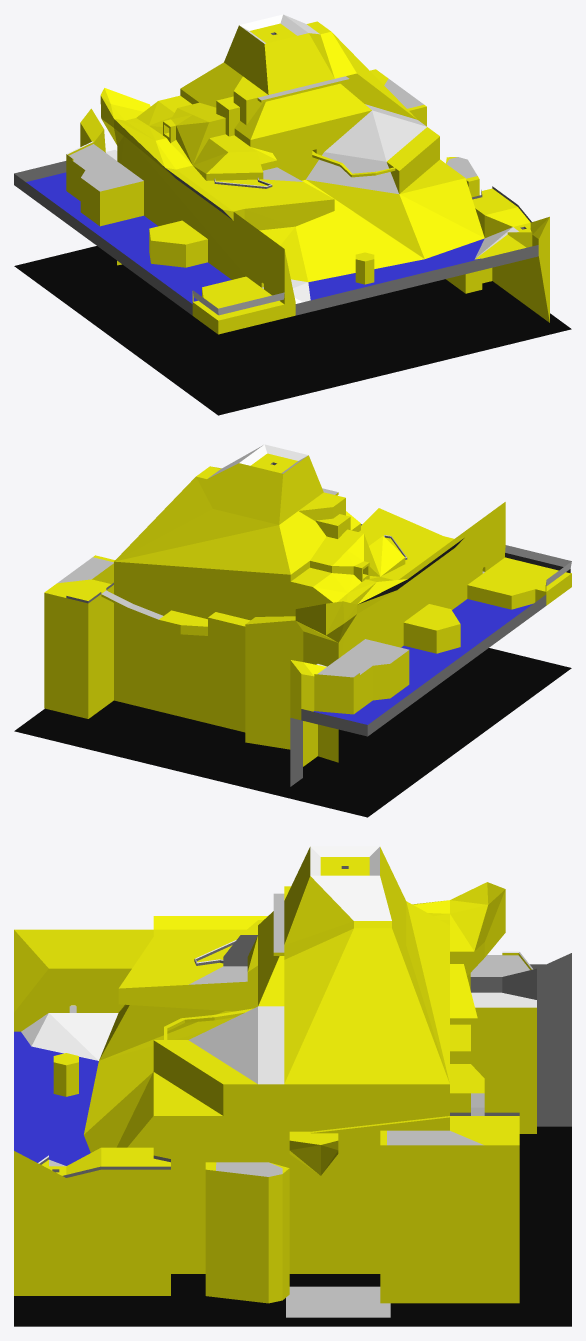
Rendered from thi_segment7.0x09FC8.collision.obj.
The picture shows the model from 3 angles, top to bottom: view 1: azimuth 30°, elevation 25°; view 2: azimuth 150°, elevation 25°; view 3: azimuth 270°, elevation 25°; orthographic projection. The views are drawn at different scales.
Visible parts, largest first — view 1: thi_segment7_09FC8_normal, thi_segment7_09FC8_deathfloor, thi_segment7_09FC8_icy, thi_segment7_09FC8_wall, thi_segment7_09FC8_snowy, thi_segment7_09FC8_21, thi_segment7_09FC8_snowy2, thi_segment7_09FC8_windy, thi_segment7_09FC8_78; view 2: thi_segment7_09FC8_normal, thi_segment7_09FC8_deathfloor, thi_segment7_09FC8_icy, thi_segment7_09FC8_wall, thi_segment7_09FC8_21, thi_segment7_09FC8_windy, thi_segment7_09FC8_snowy2, thi_segment7_09FC8_78, thi_segment7_09FC8_fence; view 3: thi_segment7_09FC8_normal, thi_segment7_09FC8_deathfloor, thi_segment7_09FC8_wall, thi_segment7_09FC8_snowy2, thi_segment7_09FC8_icy, thi_segment7_09FC8_snowy, thi_segment7_09FC8_38, thi_segment7_09FC8_windy, thi_segment7_09FC8_21, thi_segment7_09FC8_6F, thi_segment7_09FC8_69.
Boxes of the visible parts, <box> form: thi_segment7_09FC8_normal: <box>66,21,549,334</box>; thi_segment7_09FC8_deathfloor: <box>14,246,571,415</box>; thi_segment7_09FC8_icy: <box>26,172,484,303</box>; thi_segment7_09FC8_wall: <box>14,32,538,315</box>; thi_segment7_09FC8_snowy: <box>67,104,426,193</box>; thi_segment7_09FC8_21: <box>69,144,143,191</box>; thi_segment7_09FC8_snowy2: <box>106,14,518,303</box>; thi_segment7_09FC8_windy: <box>384,78,477,178</box>; thi_segment7_09FC8_78: <box>192,290,284,315</box>; thi_segment7_09FC8_normal: <box>44,453,571,766</box>; thi_segment7_09FC8_deathfloor: <box>14,648,571,817</box>; thi_segment7_09FC8_icy: <box>313,599,532,724</box>; thi_segment7_09FC8_wall: <box>66,462,546,786</box>; thi_segment7_09FC8_21: <box>317,639,408,677</box>; thi_segment7_09FC8_windy: <box>57,557,163,619</box>; thi_segment7_09FC8_snowy2: <box>208,444,326,666</box>; thi_segment7_09FC8_78: <box>505,545,571,585</box>; thi_segment7_09FC8_fence: <box>358,538,570,604</box>; thi_segment7_09FC8_normal: <box>14,847,536,1303</box>; thi_segment7_09FC8_deathfloor: <box>14,1126,571,1326</box>; thi_segment7_09FC8_wall: <box>39,866,571,1177</box>; thi_segment7_09FC8_snowy2: <box>21,846,536,1166</box>; thi_segment7_09FC8_icy: <box>14,1031,98,1165</box>; thi_segment7_09FC8_snowy: <box>38,940,533,1163</box>; thi_segment7_09FC8_38: <box>286,1286,390,1317</box>; thi_segment7_09FC8_windy: <box>216,1093,484,1176</box>; thi_segment7_09FC8_21: <box>470,955,529,976</box>; thi_segment7_09FC8_6F: <box>188,966,247,984</box>; thi_segment7_09FC8_69: <box>273,893,284,952</box>.
Size of the model in its own units: 16 by 11 by 16.
